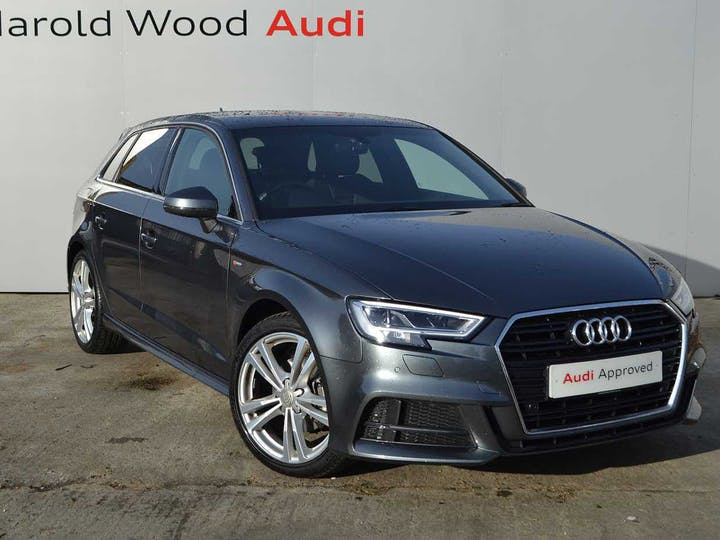audi: (564, 314, 639, 350)
